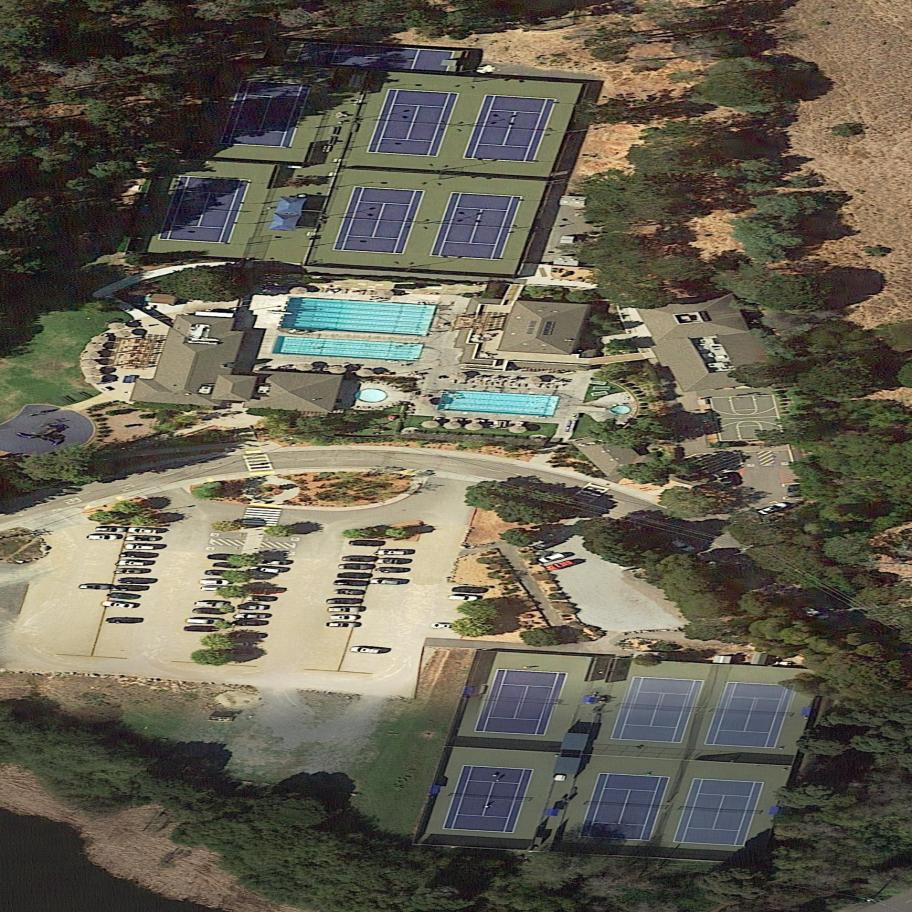small-vehicle: (797, 601, 833, 626), (667, 533, 698, 558), (757, 500, 791, 518), (536, 550, 569, 566), (545, 558, 578, 573), (714, 474, 741, 490), (450, 585, 489, 595), (249, 565, 285, 575), (115, 577, 159, 585), (190, 607, 229, 616), (101, 600, 136, 610), (106, 591, 141, 601), (120, 551, 157, 560), (429, 621, 462, 631), (103, 616, 144, 624), (350, 646, 383, 655), (254, 558, 291, 566), (230, 619, 270, 626), (205, 553, 245, 560), (334, 579, 369, 587), (244, 595, 278, 603), (202, 569, 236, 577), (338, 564, 376, 571), (182, 626, 220, 633), (349, 540, 387, 547), (128, 527, 160, 535), (448, 594, 480, 602), (113, 585, 149, 592), (787, 485, 806, 498), (230, 633, 270, 639), (333, 589, 366, 596), (243, 588, 281, 594), (124, 544, 156, 551), (211, 561, 243, 568), (186, 618, 217, 625), (376, 559, 412, 565), (234, 613, 269, 619), (337, 573, 372, 579), (369, 579, 403, 585), (125, 536, 158, 542), (343, 556, 376, 562), (237, 604, 270, 610), (118, 560, 146, 567), (377, 550, 409, 556), (195, 601, 226, 607), (327, 599, 364, 604), (80, 584, 110, 590), (200, 579, 230, 585), (375, 568, 410, 573), (327, 607, 361, 612), (95, 527, 127, 532), (87, 535, 119, 540), (330, 622, 361, 627), (115, 569, 142, 574), (331, 615, 358, 620)
